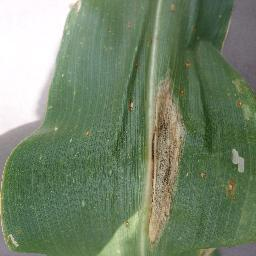Corn_Blight: (146, 80, 186, 248), (1, 146, 15, 228), (215, 5, 236, 57), (230, 77, 254, 122), (220, 142, 248, 176), (222, 177, 240, 200), (64, 0, 87, 15), (3, 233, 20, 251), (143, 32, 158, 46), (177, 58, 194, 70), (120, 219, 134, 233), (127, 92, 135, 114), (124, 19, 135, 34), (81, 125, 91, 141), (168, 0, 178, 13), (197, 169, 207, 181)
